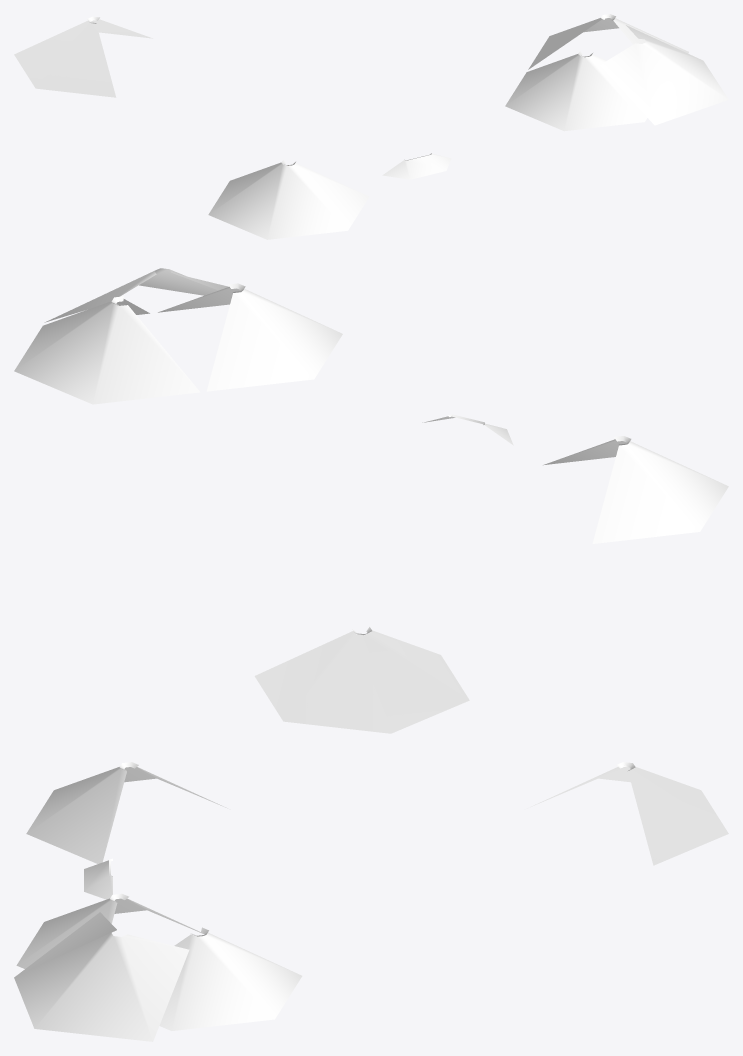
The model's file is station_runway_100m_lights.DAE.
3 views of the same model, one above another, from view 1: azimuth 30°, elevation 25°; view 2: azimuth 150°, elevation 25°; view 3: azimuth 270°, elevation 25° (orthographic). The views are drawn at different scales.
Visible parts, largest first — view 1: Cylinder12; view 2: Cylinder12; view 3: Cylinder12.
Part boxes in pixels (<box>): Cylinder12: <box>14,14,728,239</box>; Cylinder12: <box>14,268,728,733</box>; Cylinder12: <box>14,762,728,1041</box>.
Size of the model in its own units: 151 by 24.52 by 148.
